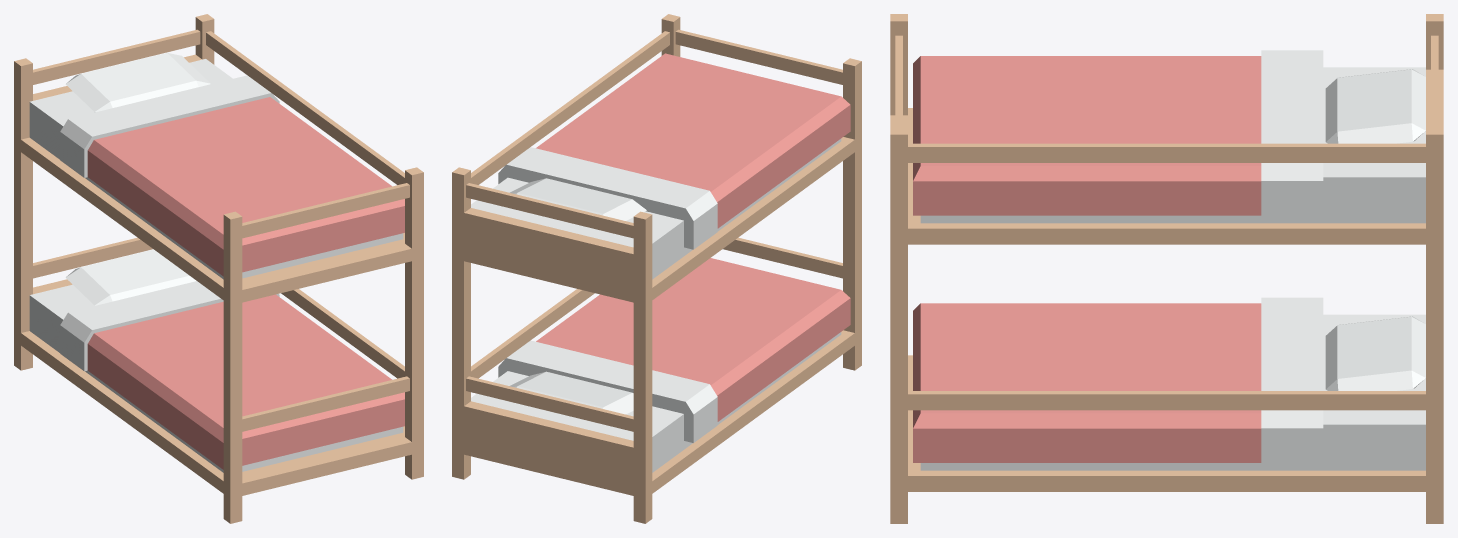
Rendered from bedBunk.glb.
3 renders of one model, left to right at view 1: azimuth 30°, elevation 25°; view 2: azimuth 150°, elevation 25°; view 3: azimuth 270°, elevation 25°, orthographic. The views are drawn at different scales.
Visible parts, largest first — view 1: bedBunk(Clone), coverTop, coverBottom, pillowTop, pillowBottom; view 2: bedBunk(Clone), coverTop, coverBottom, pillowTop, pillowBottom; view 3: bedBunk(Clone), coverTop, coverBottom, pillowTop, pillowBottom.
Part boxes in pixels (x1=…): bedBunk(Clone): x1=14, y1=14, x2=423, y2=523; coverTop: x1=60, y1=75, x2=404, y2=276; coverBottom: x1=60, y1=281, x2=404, y2=469; pillowTop: x1=65, y1=53, x2=210, y2=112; pillowBottom: x1=65, y1=249, x2=196, y2=305; bedBunk(Clone): x1=452, y1=14, x2=861, y2=523; coverTop: x1=498, y1=53, x2=850, y2=249; coverBottom: x1=498, y1=258, x2=850, y2=442; pillowTop: x1=510, y1=178, x2=646, y2=220; pillowBottom: x1=509, y1=371, x2=633, y2=414; bedBunk(Clone): x1=890, y1=14, x2=1443, y2=523; coverTop: x1=913, y1=50, x2=1323, y2=217; coverBottom: x1=913, y1=297, x2=1323, y2=464; pillowTop: x1=1325, y1=69, x2=1425, y2=143; pillowBottom: x1=1325, y1=316, x2=1425, y2=390.
Bounding box in the file's own units: 0.571 × 0.85 × 1.1.
